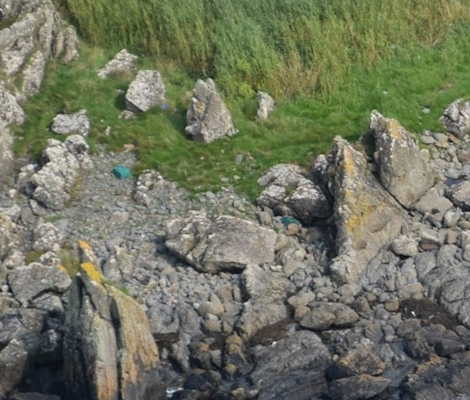white_in_green: (96, 151, 145, 192)
